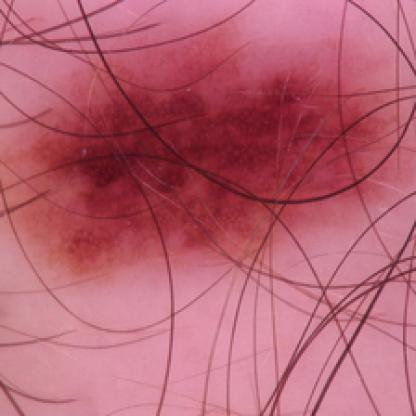benign: (28, 76, 371, 238)
